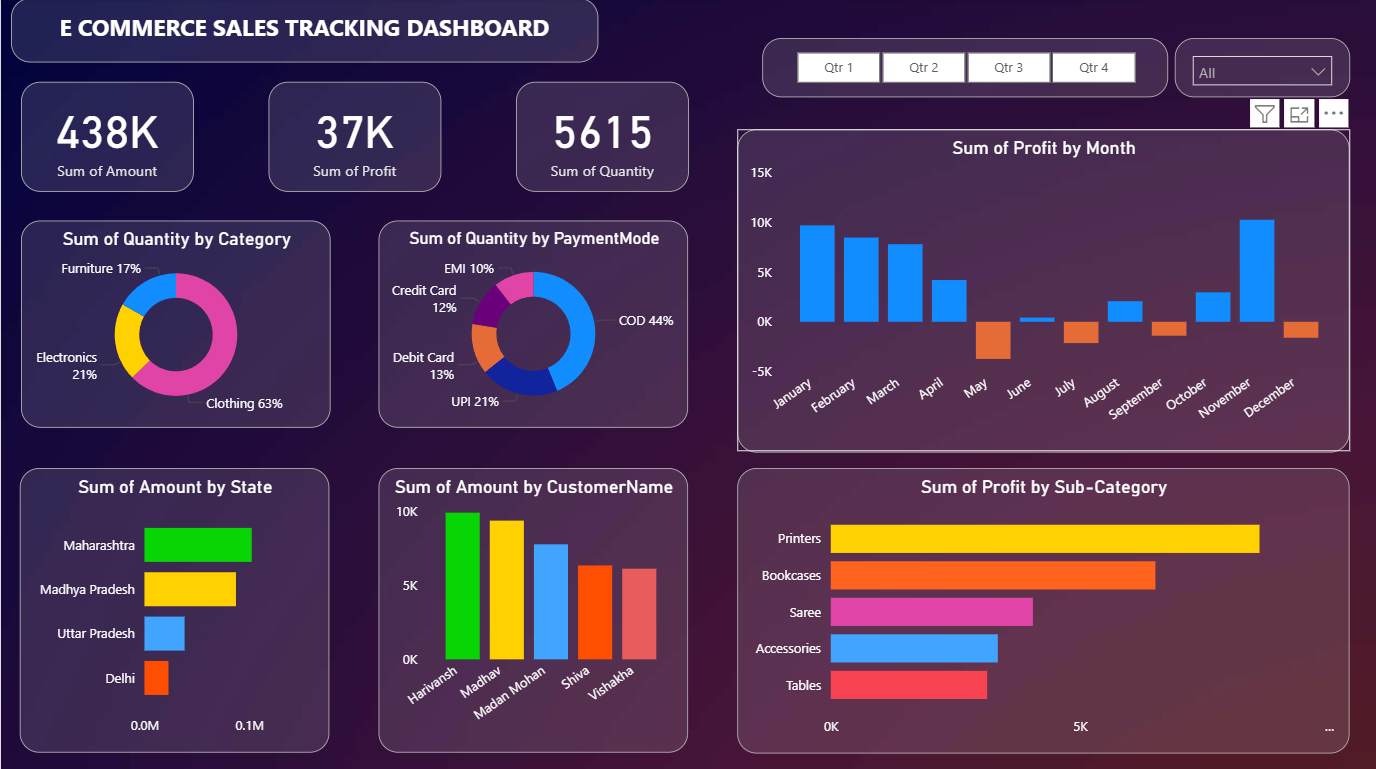

This screenshot's page, from the dashboard's own definition file:
{"tool":"powerbi","page":{"name":"Page 1","canvas":[1280,720],"ordinal":0},"visuals":[{"type":"textbox","box":[9.6,0,546.1,60.4],"z":0},{"type":"columnChart","fields":{"Y":["Details.Profit"],"Category":["Orders.Order Date.Variation.Date Hierarchy.Month"]},"box":[685.3,121.9,569.4,300.4],"z":1000},{"type":"barChart","fields":{"Category":["Details.Sub-Category"],"Y":["Details.Profit"]},"box":[685.3,436.7,569.4,265.4],"z":2000},{"type":"donutChart","fields":{"Category":["Details.Category"],"Y":["Details.Quantity"]},"box":[18.1,207.5,288.3,193],"z":3000},{"type":"donutChart","fields":{"Y":["Details.Quantity"],"Category":["Details.PaymentMode"]},"box":[351.1,207.5,288.3,193],"z":4000},{"type":"card","fields":{"Values":["Details.Amount"]},"box":[18.1,78.4,160.5,102.5],"z":5000},{"type":"card","fields":{"Values":["Details.Profit"]},"box":[248.5,78.4,160.5,102.5],"z":6000},{"type":"card","fields":{"Values":["Details.Quantity"]},"box":[479,78.4,160.5,102.5],"z":7000},{"type":"clusteredBarChart","fields":{"Category":["Orders.State"],"Y":["Details.Amount"]},"box":[18,437,288,265],"z":8000},{"type":"columnChart","fields":{"Category":["Orders.CustomerName"],"Y":["Details.Amount"]},"box":[351,437,288,265],"z":9000},{"type":"slicer","fields":{"Values":["Orders.Order Date.Variation.Date Hierarchy.Quarter"]},"box":[708.2,37.4,377.6,55.5],"z":10000},{"type":"slicer","fields":{"Values":["Orders.State"]},"box":[1091.8,37.4,162.9,55.5],"z":11000}]}

Visuals, with their boxes in screenshot pixels (x1, y1, x2, y2), scaled from the page's 1280x720 canvas onto the 1376x769 screenshot:
textbox: {"x1": 10, "y1": 0, "x2": 597, "y2": 65}
columnChart - Details.Profit x Orders.Order Date.Variation.Date Hierarchy.Month: {"x1": 737, "y1": 130, "x2": 1349, "y2": 451}
barChart - Details.Sub-Category x Details.Profit: {"x1": 737, "y1": 466, "x2": 1349, "y2": 750}
donutChart - Details.Category x Details.Quantity: {"x1": 19, "y1": 222, "x2": 329, "y2": 428}
donutChart - Details.Quantity x Details.PaymentMode: {"x1": 377, "y1": 222, "x2": 687, "y2": 428}
card - Details.Amount: {"x1": 19, "y1": 84, "x2": 192, "y2": 193}
card - Details.Profit: {"x1": 267, "y1": 84, "x2": 440, "y2": 193}
card - Details.Quantity: {"x1": 515, "y1": 84, "x2": 687, "y2": 193}
clusteredBarChart - Orders.State x Details.Amount: {"x1": 19, "y1": 467, "x2": 329, "y2": 750}
columnChart - Orders.CustomerName x Details.Amount: {"x1": 377, "y1": 467, "x2": 687, "y2": 750}
slicer - Orders.Order Date.Variation.Date Hierarchy.Quarter: {"x1": 761, "y1": 40, "x2": 1167, "y2": 99}
slicer - Orders.State: {"x1": 1174, "y1": 40, "x2": 1349, "y2": 99}
